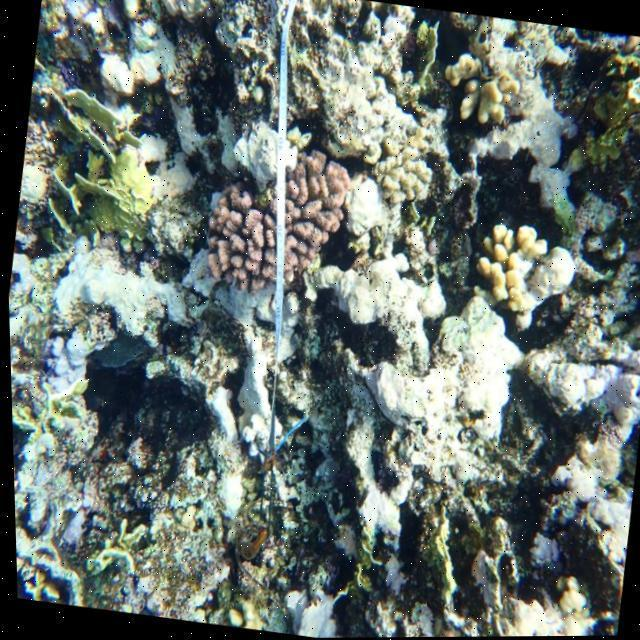Bleached Coral: (457, 204, 602, 346), (422, 26, 544, 146)
Healthy Coral: (209, 164, 355, 295)
